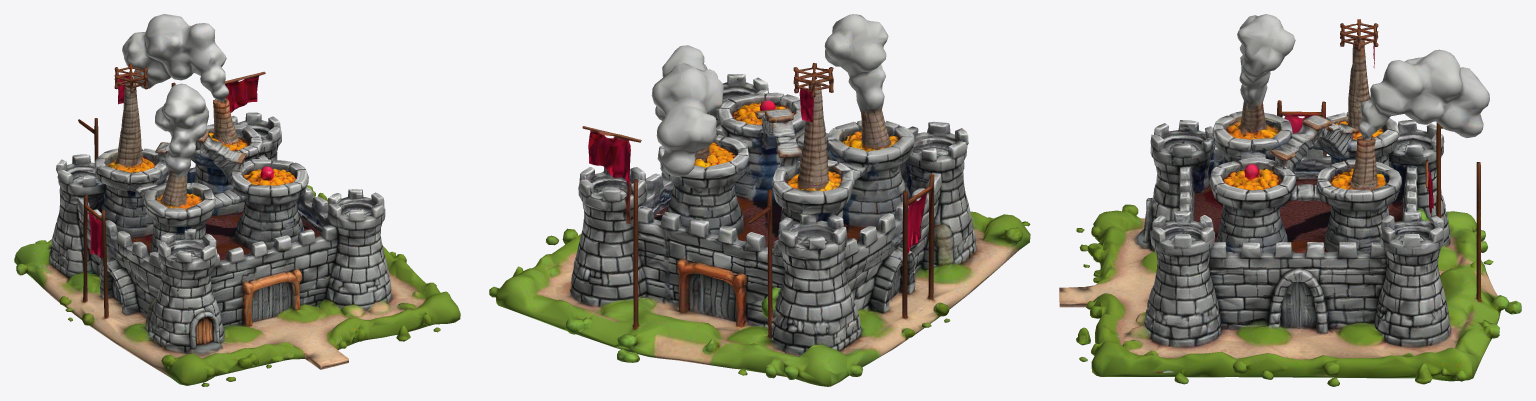
The model's file is barracks.glb.
3 views of the same model, side by side, from view 1: azimuth 30°, elevation 25°; view 2: azimuth 150°, elevation 25°; view 3: azimuth 270°, elevation 25° (orthographic). The views are drawn at different scales.
Size of the model in its own units: 1.71 by 1.14 by 1.9.
1 material, 1 textured.
